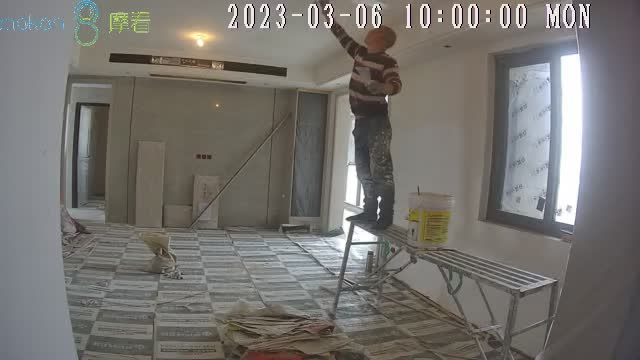people: (321, 1, 403, 230)
window: (483, 46, 582, 240)
